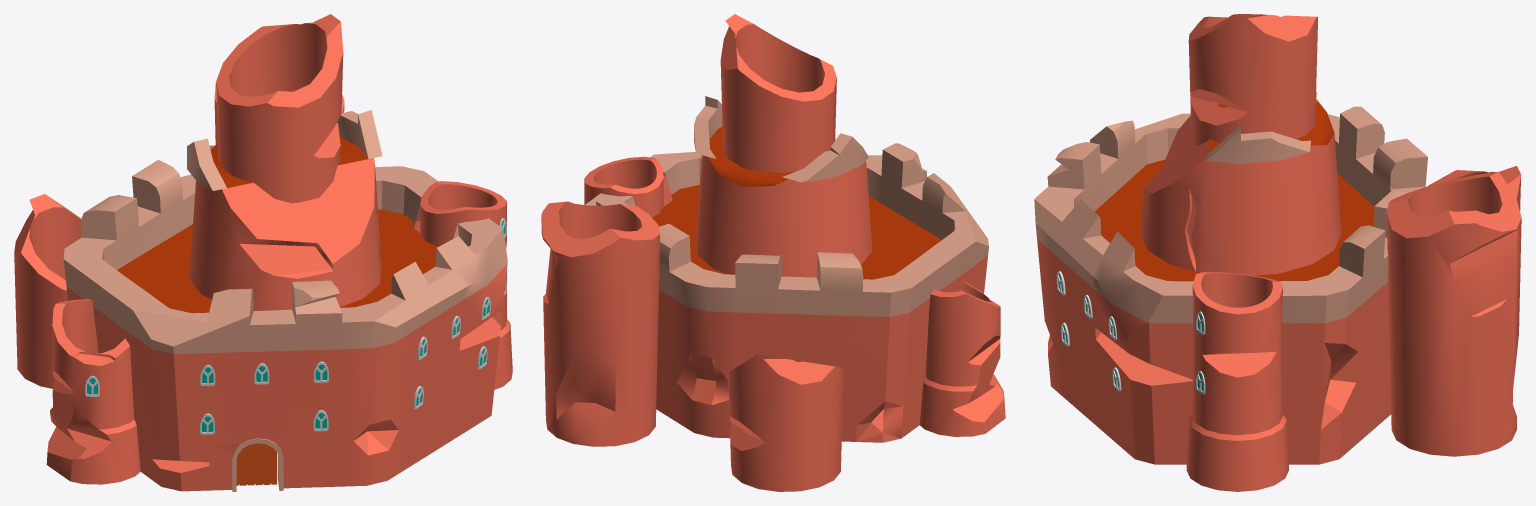
Rendered from Big_Castle_Upgrade1_Stage3.fbx.
3 renders of one model, left to right at view 1: azimuth 30°, elevation 25°; view 2: azimuth 150°, elevation 25°; view 3: azimuth 270°, elevation 25°, orthographic. The views are drawn at different scales.
Visible parts, largest first — view 1: Big_Castle_Upgrade1_Stage3; view 2: Big_Castle_Upgrade1_Stage3; view 3: Big_Castle_Upgrade1_Stage3.
Part boxes in pixels (left/top/right/bottom): Big_Castle_Upgrade1_Stage3: left=14, top=14, right=512, bottom=491; Big_Castle_Upgrade1_Stage3: left=541, top=14, right=1005, bottom=491; Big_Castle_Upgrade1_Stage3: left=1034, top=14, right=1521, bottom=491.
Size of the model in its own units: 901 by 734 by 819.
Materials: 1 (1 with a texture image).
